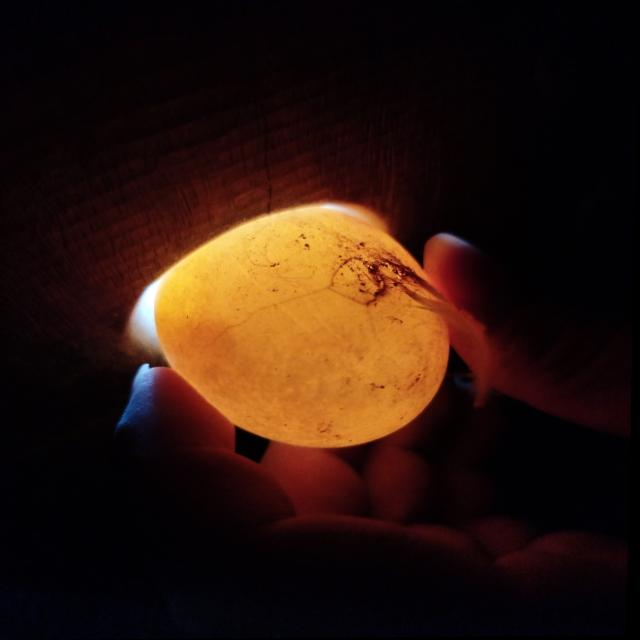Rachadura: (332, 259, 384, 305)
